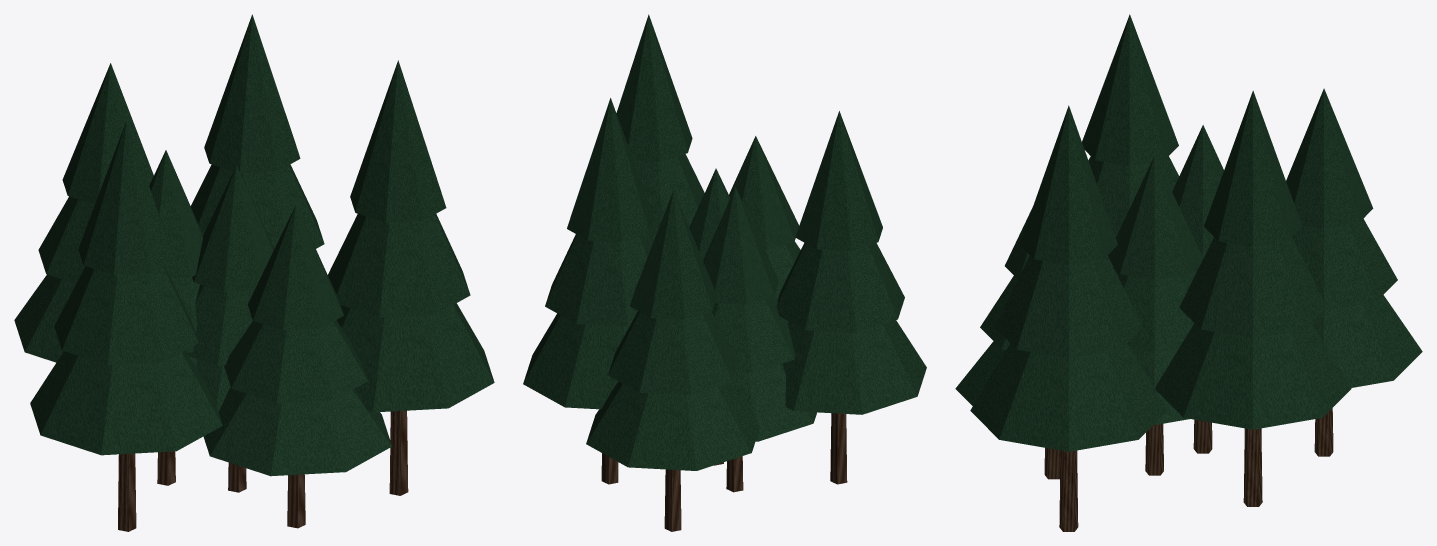
Rendered from canopy_conifer_01.fbx.
3 views of the same model, side by side, from view 1: azimuth 30°, elevation 25°; view 2: azimuth 150°, elevation 25°; view 3: azimuth 270°, elevation 25° (orthographic). The views are drawn at different scales.
Visible parts, largest first — view 1: canopy_conifer_01_LOD0; view 2: canopy_conifer_01_LOD0; view 3: canopy_conifer_01_LOD0.
Part boxes in pixels (x1,y1,x2,y2): canopy_conifer_01_LOD0: (14,14,494,531); canopy_conifer_01_LOD0: (523,14,926,531); canopy_conifer_01_LOD0: (955,14,1422,531).
Size of what is drawn, in the model's own units: 1 by 1 by 1.
